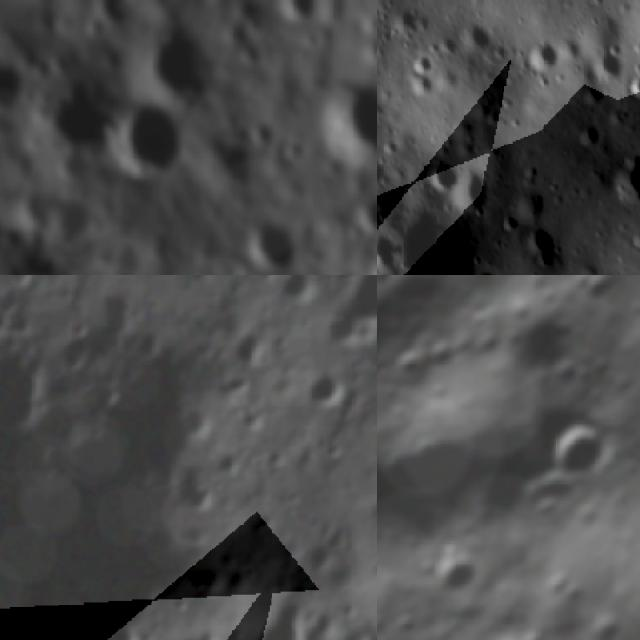crater: (101, 86, 194, 190), (149, 24, 227, 104), (313, 71, 377, 160), (319, 275, 377, 365), (540, 412, 611, 485), (510, 459, 578, 524), (247, 209, 304, 275), (249, 592, 324, 640), (208, 132, 260, 194), (7, 175, 60, 230), (228, 320, 274, 374), (46, 197, 93, 249), (172, 396, 223, 441), (571, 275, 625, 316), (302, 370, 356, 410), (453, 165, 495, 216), (436, 550, 480, 598), (0, 51, 28, 120), (608, 150, 640, 207), (211, 437, 253, 479), (383, 337, 426, 378), (183, 559, 225, 600), (274, 275, 322, 308), (349, 186, 377, 242), (185, 474, 222, 514), (236, 400, 276, 436), (459, 298, 498, 334), (84, 0, 133, 28), (269, 0, 326, 24), (130, 328, 170, 362), (593, 44, 628, 82), (527, 224, 566, 258), (61, 332, 93, 373), (526, 36, 562, 72), (427, 156, 463, 192), (304, 536, 341, 570), (462, 17, 494, 52), (393, 625, 454, 640), (100, 378, 128, 408), (336, 594, 362, 625), (408, 69, 436, 97), (318, 435, 348, 461), (85, 419, 112, 447), (426, 336, 453, 364), (166, 626, 219, 640), (578, 119, 604, 144), (410, 52, 438, 74), (6, 275, 40, 289), (624, 71, 640, 100), (368, 492, 377, 527), (377, 275, 399, 289)
